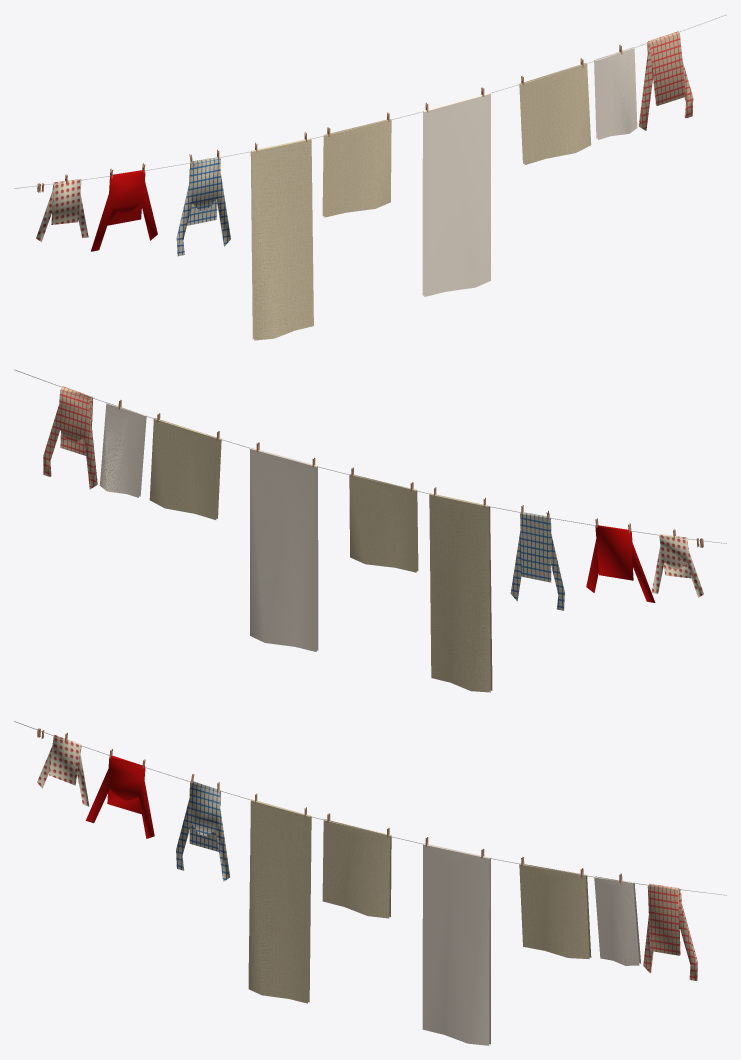
File: clothes_line(1).glb
3 views of the same model, one above another, from view 1: azimuth 30°, elevation 25°; view 2: azimuth 150°, elevation 25°; view 3: azimuth 330°, elevation 25° (orthographic).
Parts seen in each view (by area): view 1: Object_8, Object_9, Object_5, Object_2, Object_3, Object_4; view 2: Object_8, Object_9, Object_5, Object_2, Object_3, Object_4; view 3: Object_8, Object_9, Object_5, Object_2, Object_3, Object_4.
Part boxes in pixels (x1,y1,x2,y2): Object_8: (250,63,591,340); Object_9: (422,47,637,296); Object_5: (638,31,693,130); Object_2: (176,157,230,256); Object_3: (91,170,157,251); Object_4: (36,179,88,241); Object_8: (149,418,492,692); Object_9: (99,402,318,651); Object_5: (43,386,97,489); Object_2: (510,512,564,610); Object_3: (586,525,655,602); Object_4: (651,534,703,597); Object_8: (248,799,591,1003); Object_9: (422,843,641,1045); Object_5: (643,883,697,980); Object_2: (176,781,230,881); Object_3: (85,755,154,838); Object_4: (37,734,89,806).
Bounding box in the file's own units: 500 × 140 × 15.
Materials: 9 (4 with a texture image).
